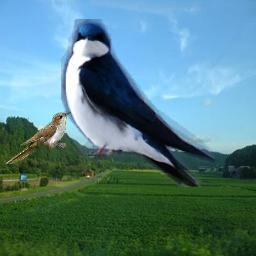Cuckoo: (4, 111, 71, 164)
Swallow: (61, 19, 215, 187)
